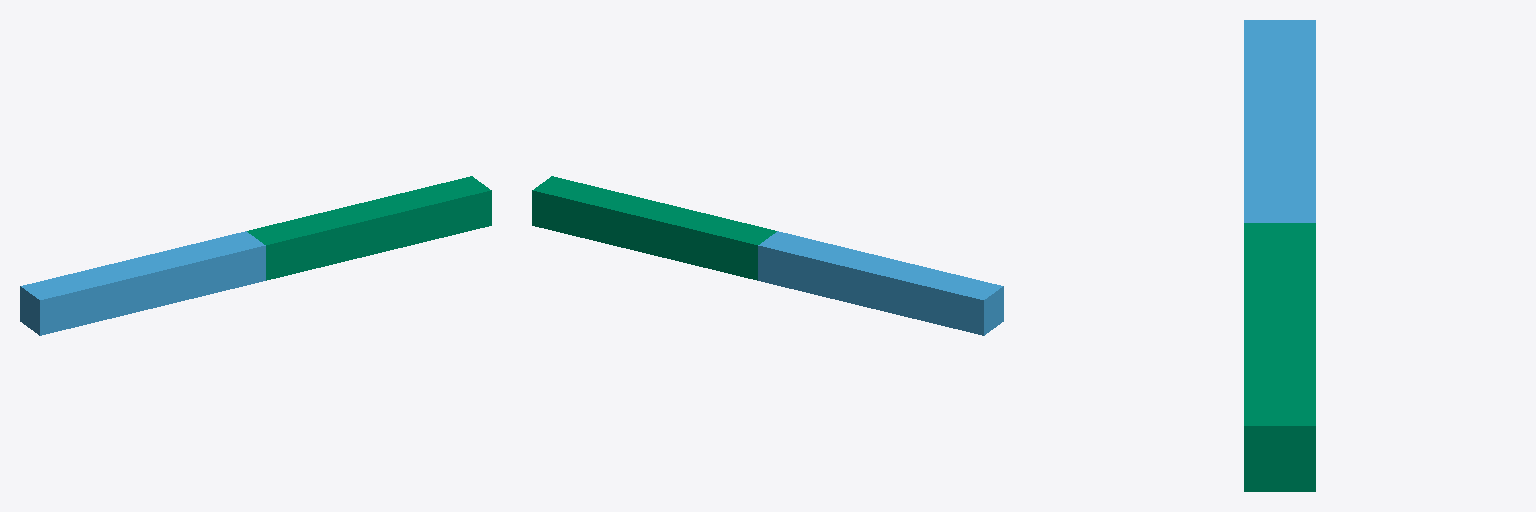
URDF robot description (lbr_iiwa):
<?xml version="1.0" ?>
<robot name="lbr_iiwa">
    <link name="world" />    

    <link name="link1">
    <inertial>
      <origin rpy="0 0 0" xyz="0.5 0 0"/>
      <mass value="1"/>
      <inertia ixx="0.05" ixy="0" ixz="0" iyy="0.06" iyz="0" izz="0.03"/>
    </inertial>
    <visual>
      <origin rpy="0 0 0" xyz="0.5 0 0"/>
      <geometry>
        <box size="1 0.15 0.15"/>
      </geometry>
      <material name="Grey"/>
    </visual>
    <collision>
      <origin rpy="0 0 0" xyz="0.5 0 0"/>
      <geometry>
        <box size="1 0.15 0.15"/>
      </geometry>
      <material name="Grey"/>
    </collision>    
  </link>    

    <link name="link2">
    <inertial>
      <origin rpy="0 0 0" xyz="0.5 0 0"/>
      <mass value="1"/>
      <inertia ixx="0.05" ixy="0" ixz="0" iyy="0.06" iyz="0" izz="0.03"/>
    </inertial>
    <visual>
      <origin rpy="0 0 0" xyz="0.5 0 0"/>
      <geometry>
        <box size="1 0.15 0.15"/>
      </geometry>
      <material name="Grey"/>
    </visual>
    <collision>
      <origin rpy="0 0 0" xyz="0.5 0 0"/>
      <geometry>
        <box size="1 0.15 0.15"/>
      </geometry>
      <material name="Grey"/>
    </collision>    
  </link>

   <!--link name="link3">
    <inertial>
      <origin rpy="0 0 0" xyz="0.5 0 0"/>
      <mass value="1"/>
      <inertia ixx="0.05" ixy="0" ixz="0" iyy="0.06" iyz="0" izz="0.03"/>
    </inertial>
    <visual>
      <origin rpy="0 0 0" xyz="0.5 0 0"/>
      <geometry>
        <box size="1 0.15 0.15"/>
      </geometry>
      <material name="Grey"/>
    </visual>
    <collision>
      <origin rpy="0 0 0" xyz="0.5 0 0"/>
      <geometry>
        <box size="1 0.15 0.15"/>
      </geometry>
      <material name="Grey"/>
    </collision>    
  </link-->

  <link name="end_effector">
      <!--inertial>
          <origin rpy="0 0 0" xyz="0 0 0"/>
          <mass value="0.0000001"/>
          <inertia ixx="0.0" ixy="0" ixz="0" iyy="0.0" iyz="0" izz="0.0"/>
    </inertial-->
  </link>   

  <joint name="joint1" type="revolute">
    <parent link="world"/>
    <child link="link1"/>
    <origin rpy="0 0 0" xyz="0 0 0"/>
    <axis xyz="0 0 1"/>
    <limit effort="500" lower="-3.14159265359" upper="3.14159265359" velocity="200"/>    
    <dynamics damping="0.5"/>
  </joint>

  <joint name="joint2" type="revolute">
    <parent link="link1"/>
    <child link="link2"/>
    <origin rpy="0 0 0" xyz="1 0 0"/>
    <axis xyz="0 0 1"/>
    <limit effort="200" lower="-3.14159265359" upper="3.14159265359" velocity="200"/>      
    <dynamics damping="0.5"/>
  </joint>

  <joint name="joint3" type="fixed">
    <parent link="link2"/>
    <child link="end_effector"/>
    <origin rpy="0 0 0" xyz="1 0 0"/>
    <axis xyz="0 0 1"/>
    <limit effort="200" lower="-3.14159265359" upper="3.14159265359" velocity="200"/>     
    <dynamics damping="0.5"/>
  </joint>

  <!--joint name="joint4" type="fixed">    
    <parent link="link3"/>
    <child link="end_effector"/>
    <origin rpy="0 0 0" xyz="1 0 0"/>
    <axis xyz="0 0 1"/>
    <limit effort="200" lower="-3.14159265359" upper="3.14159265359" velocity="1"/>    
    <dynamics damping="0.5"/>
  </joint-->
 
    
</robot>

--- Facts derived from the render (not from the file) ---
The picture shows the robot from 3 angles, left to right: view 1: azimuth 30°, elevation 25°; view 2: azimuth 150°, elevation 25°; view 3: azimuth 270°, elevation 25°; orthographic projection.
Robot: lbr_iiwa — 4 links, 3 joints (2 revolute, 1 fixed); root link world; default pose: all joints at 0.
Links seen in each view (by area): view 1: link1, link2; view 2: link1, link2; view 3: link2, link1.
Link boxes in pixels (box(x1,y1,x2,y2)): link1: box(20, 231, 265, 335); link2: box(247, 176, 491, 280); link1: box(758, 231, 1003, 335); link2: box(532, 176, 776, 280); link2: box(1244, 223, 1315, 491); link1: box(1244, 20, 1315, 222).
Size in the robot's own frame: 2 by 0.15 by 0.15 metres.
Geometry: primitives only (box / cylinder / sphere), no mesh files.